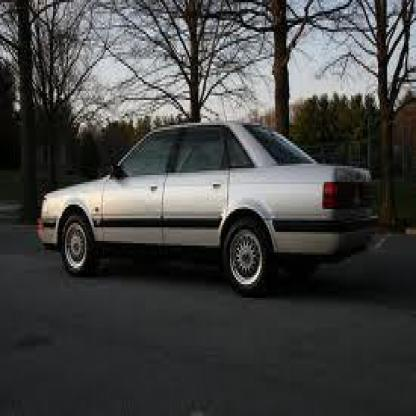Vehicle: (36, 121, 374, 302)
